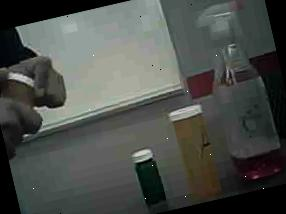Bottle A: (164, 102, 228, 207)
Bottle B: (0, 54, 68, 151)
Bottle C: (128, 143, 173, 214)
hazard: (187, 0, 286, 195)
